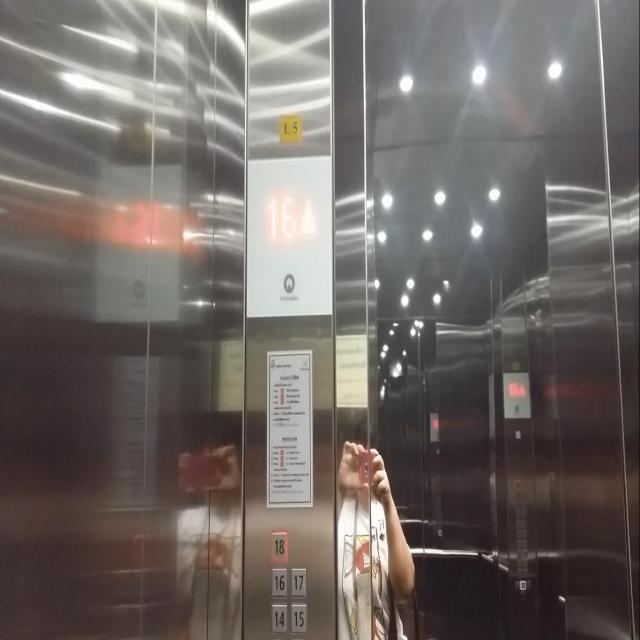14: (270, 600, 287, 633)
15: (290, 600, 307, 634)
16: (271, 566, 287, 597)
17: (290, 567, 306, 596)
18: (270, 531, 288, 563)
led: (238, 146, 338, 328), (501, 368, 532, 422)
